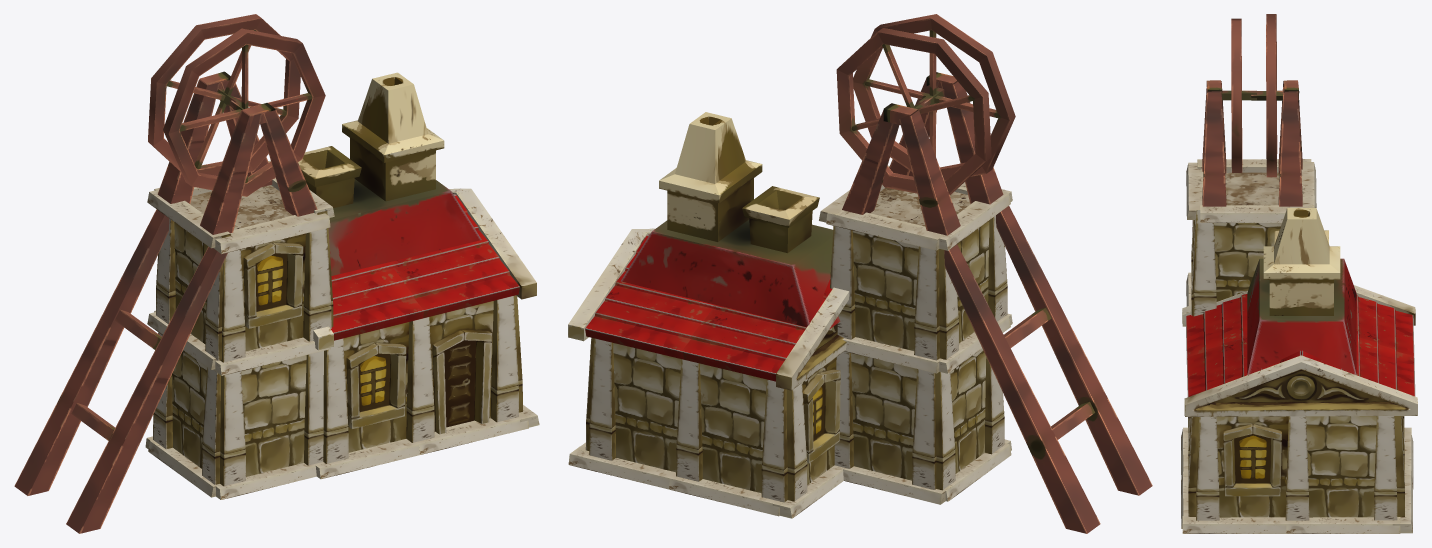
Rendered from Rome_Village_Buildings_12.FBX.
3 views of the same model, side by side, from view 1: azimuth 30°, elevation 25°; view 2: azimuth 150°, elevation 25°; view 3: azimuth 270°, elevation 25° (orthographic). The views are drawn at different scales.
Parts seen in each view (by area): view 1: Rome_Village_Buildings_12; view 2: Rome_Village_Buildings_12; view 3: Rome_Village_Buildings_12.
Part boxes in pixels (left/top/right/bottom): Rome_Village_Buildings_12: left=14, top=14, right=539, bottom=533; Rome_Village_Buildings_12: left=568, top=14, right=1152, bottom=533; Rome_Village_Buildings_12: left=1181, top=14, right=1417, bottom=533.
Size of the model in its own units: 1166 by 1069 by 580.
